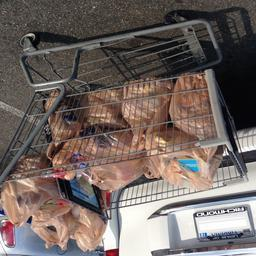plastic: (2, 70, 246, 252)
